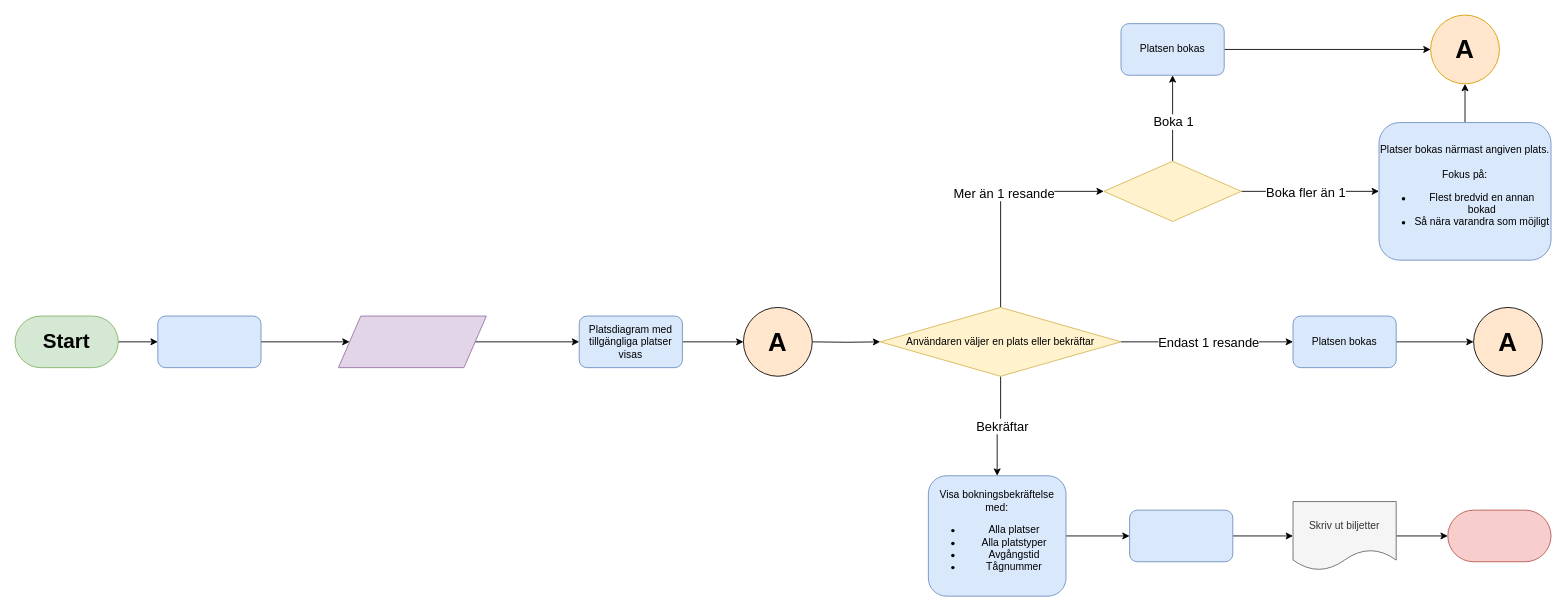
Image size: 1566x611. Some labels were removed from this diagram. Here are the shapes that lost their labels. From the top down, the centre of each, then its label:
point 1172,190: Boka alla eller endast 1
point 209,341: Visa alla möjliga avgångar
point 412,341: Användaren väljer önskad avgång och antal resande
point 1181,535: Spara bokningsdetaljer
point 1499,535: Slut
